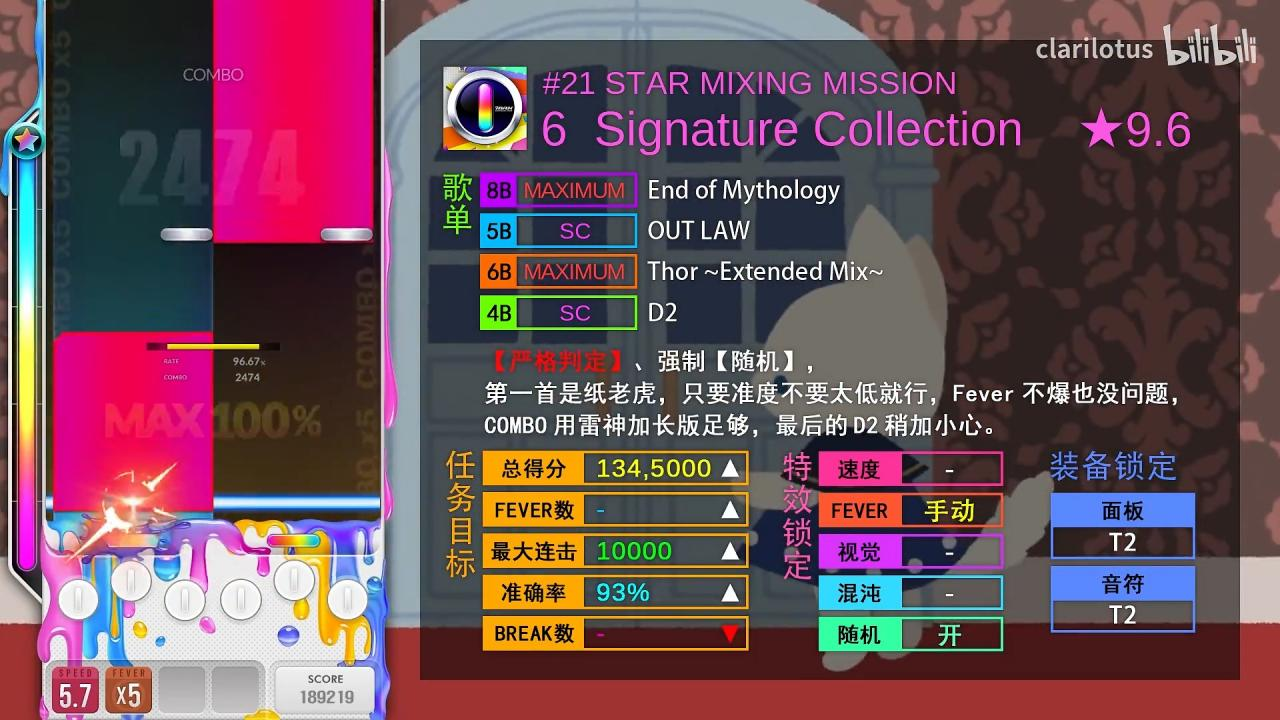note: (320, 228, 374, 243), (160, 227, 212, 242)
xend: (53, 330, 213, 348)
xstart: (213, 224, 373, 243)
